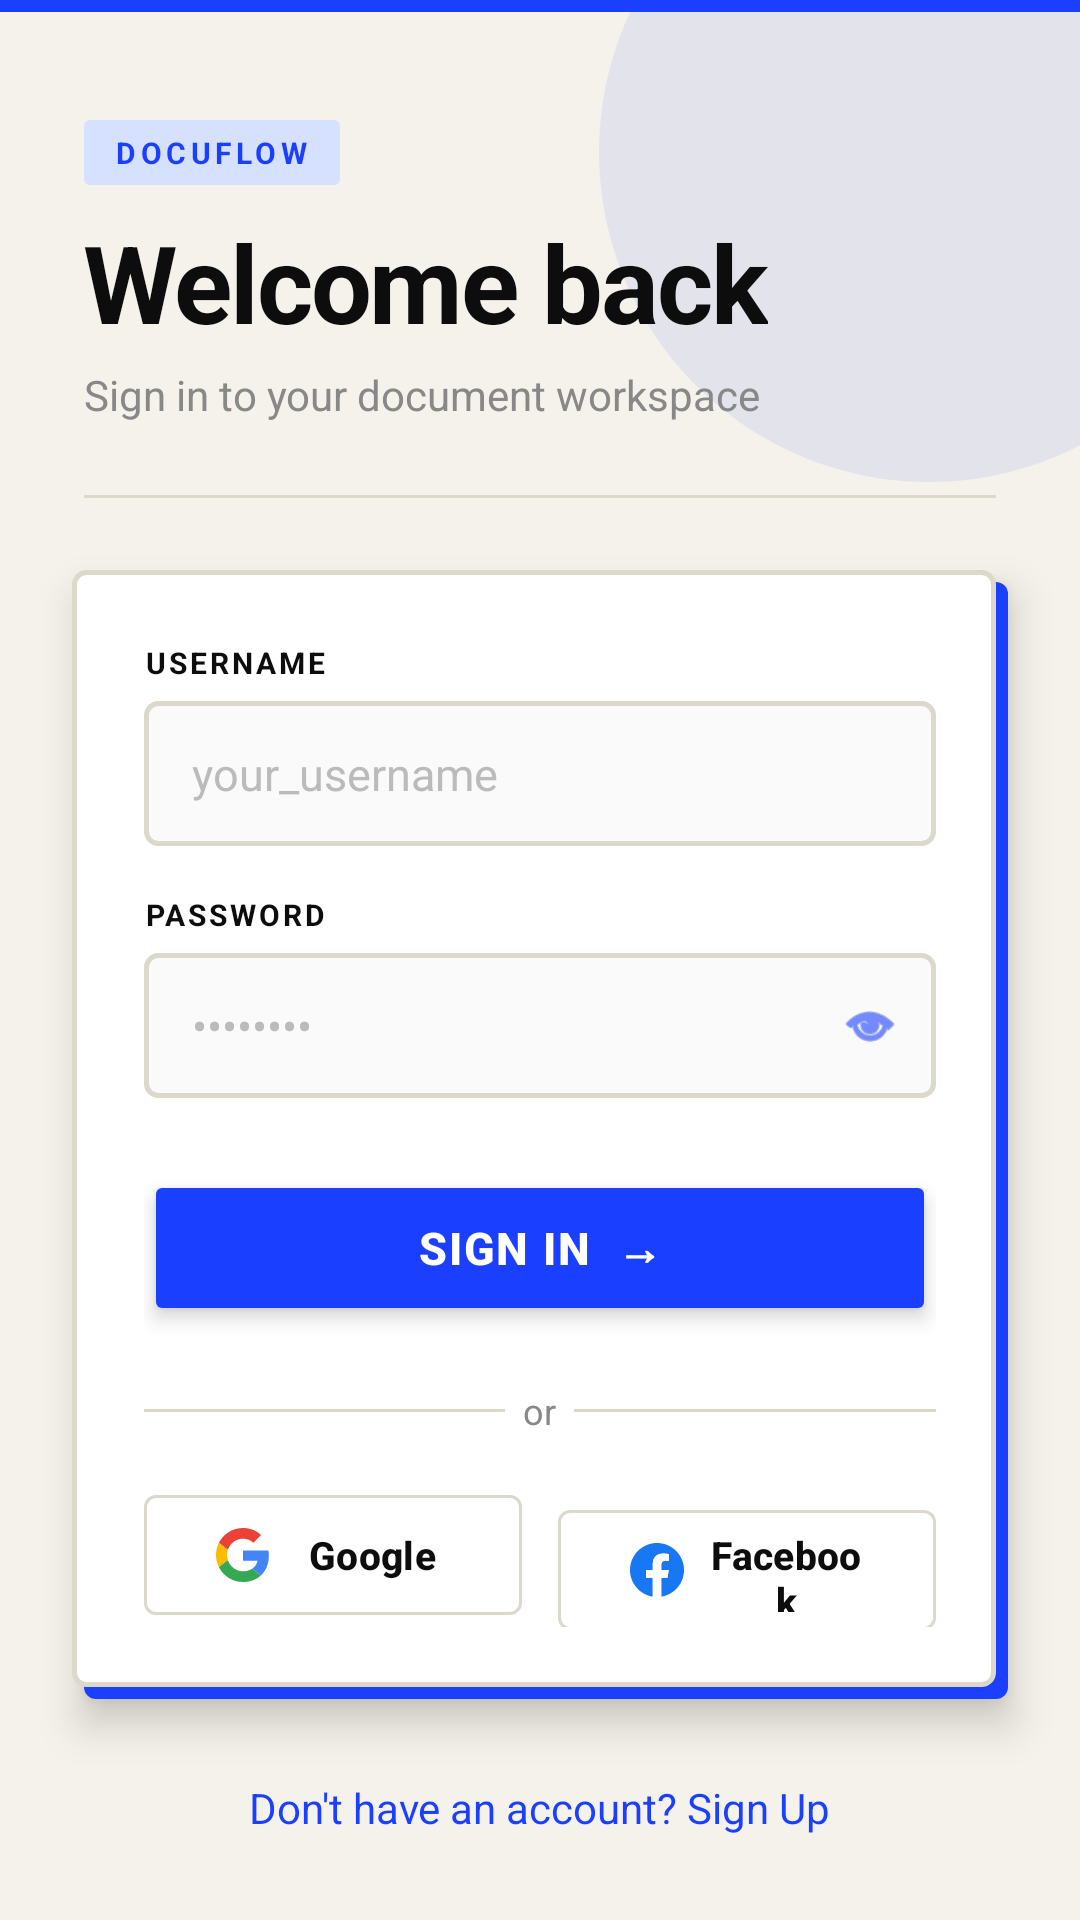

Screen size 1080×1920. Icon name, then its box in pixels as (x1, y1, x2, y2):
Show/Hide password: (846, 1011, 894, 1042)
